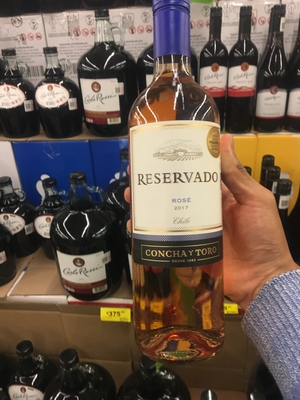reservado rose: (113, 18, 239, 359)
